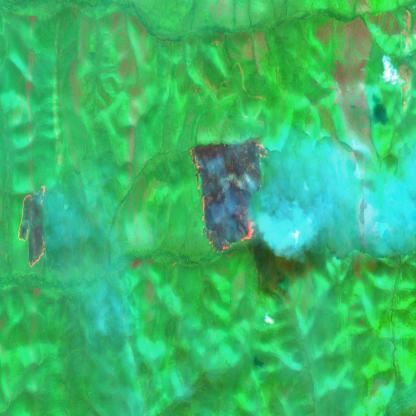fire: (188, 139, 270, 255), (16, 184, 51, 271)
